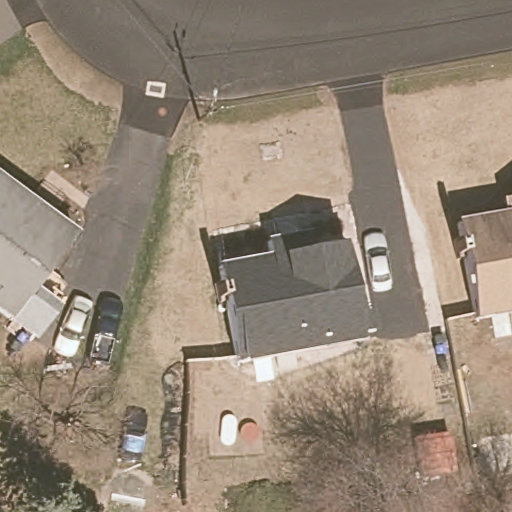DT: (197, 87, 228, 125)
